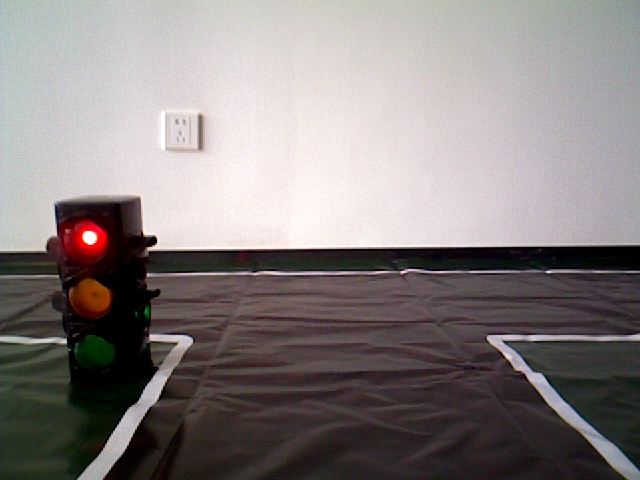red: (51, 203, 143, 384)
